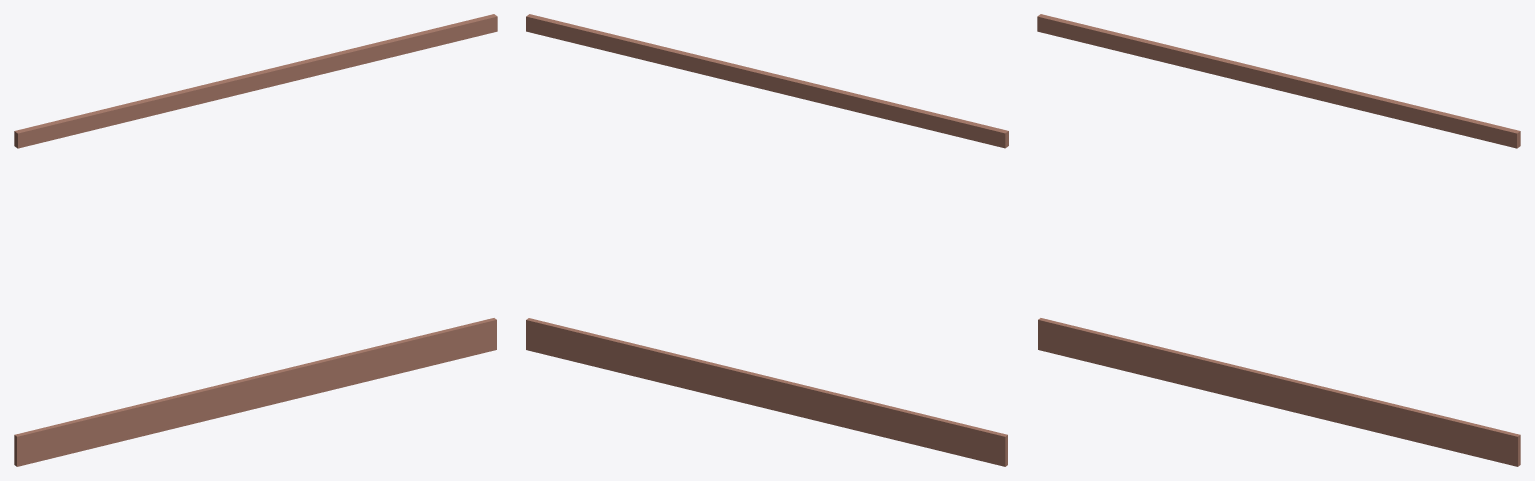
File: wall-trims.glb
3 renders of one model, left to right at view 1: azimuth 30°, elevation 25°; view 2: azimuth 150°, elevation 25°; view 3: azimuth 330°, elevation 25°, orthographic.
Visible parts, largest first — view 1: wall-trims; view 2: wall-trims; view 3: wall-trims.
Part boxes in pixels (bbox=[...]): wall-trims: bbox=[14, 14, 497, 466]; wall-trims: bbox=[526, 14, 1008, 466]; wall-trims: bbox=[1037, 14, 1520, 466].
Bounding box in the file's own units: 2 × 1.33 × 0.025.
